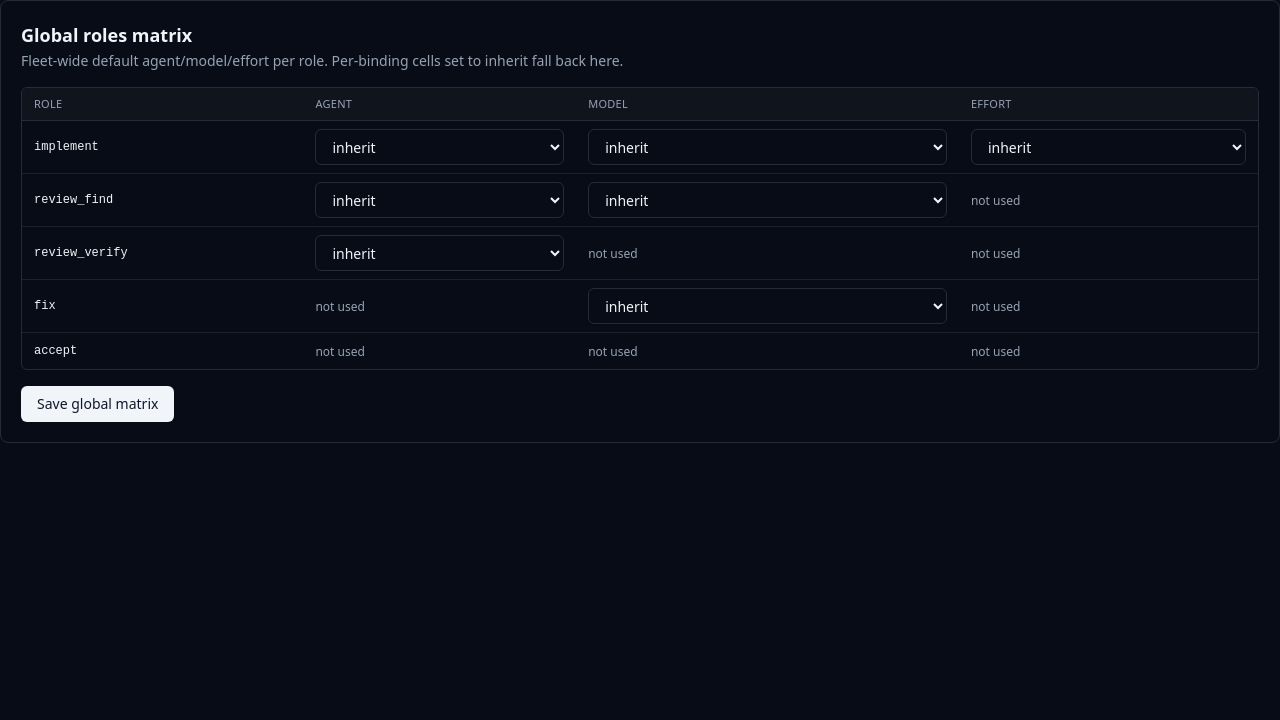
Test: GlobalRolesCard › renders a 422 validation error
Click the button "Save global matrix". click: (98, 404)
box: [21,386,174,422]
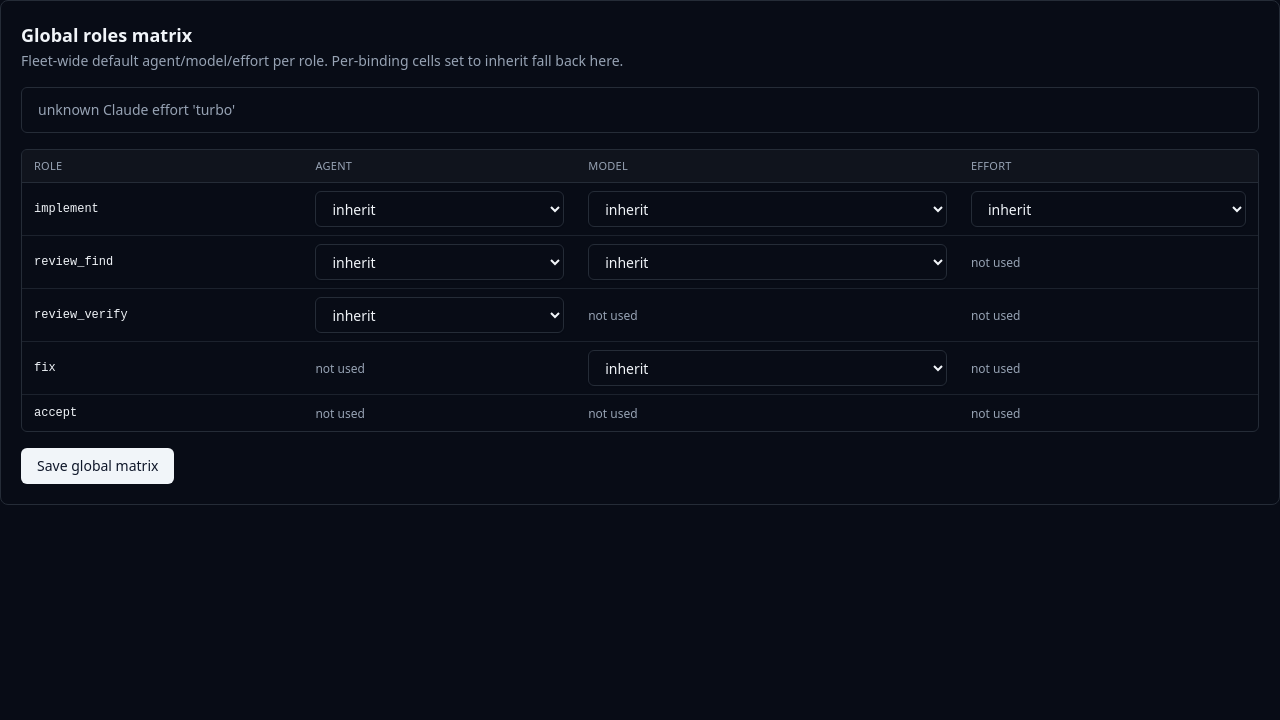
Expected: the text "unknown Claude effort 'turbo'" is shown, [38,100,235,119]
